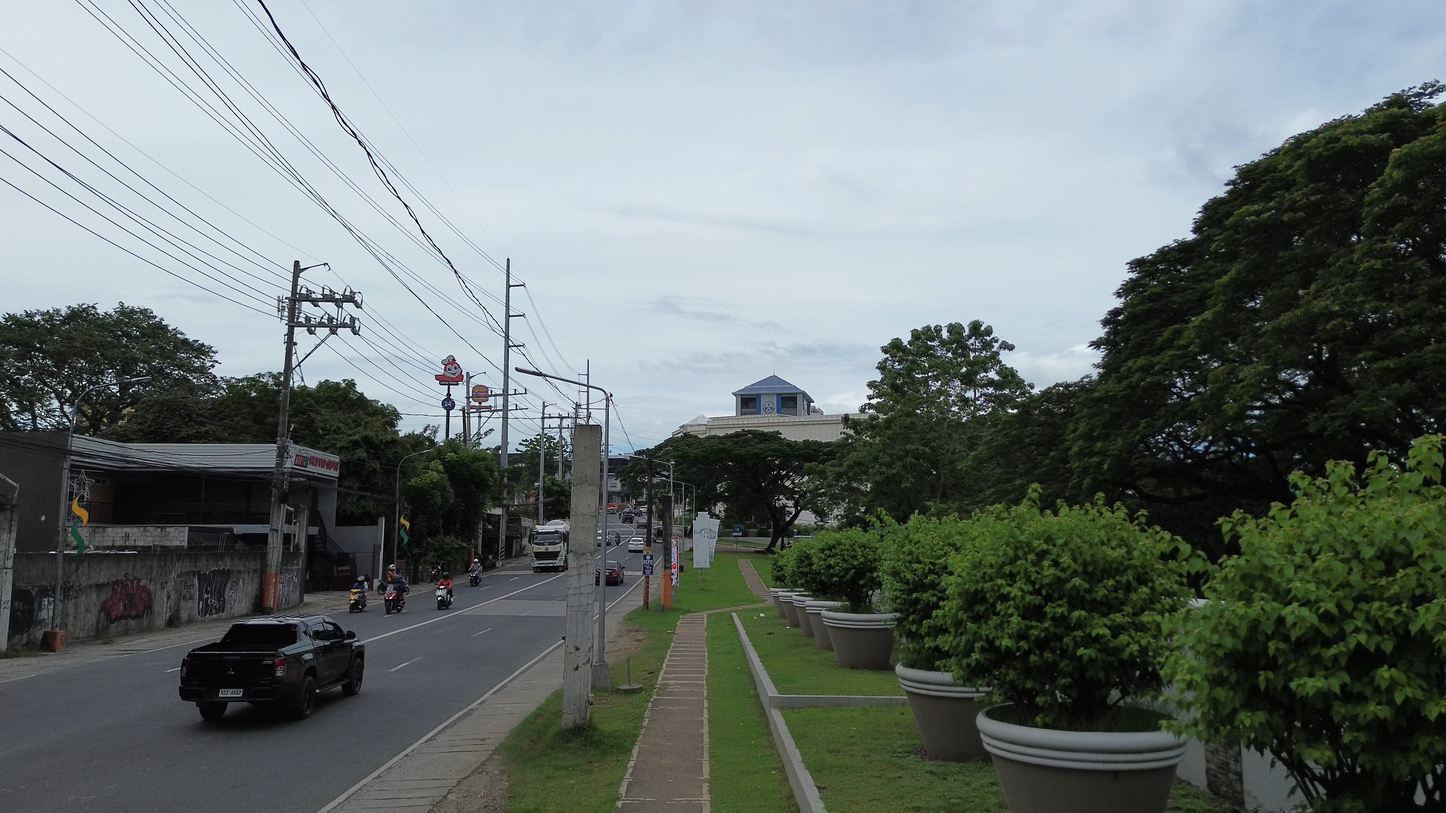motorcycle: (384, 583, 404, 614), (435, 586, 453, 610), (349, 588, 367, 612), (469, 570, 480, 586)
vehicle: (179, 616, 364, 720), (529, 521, 570, 572), (383, 582, 405, 614), (606, 560, 624, 585), (627, 536, 645, 553), (621, 511, 634, 524), (731, 525, 743, 537)
